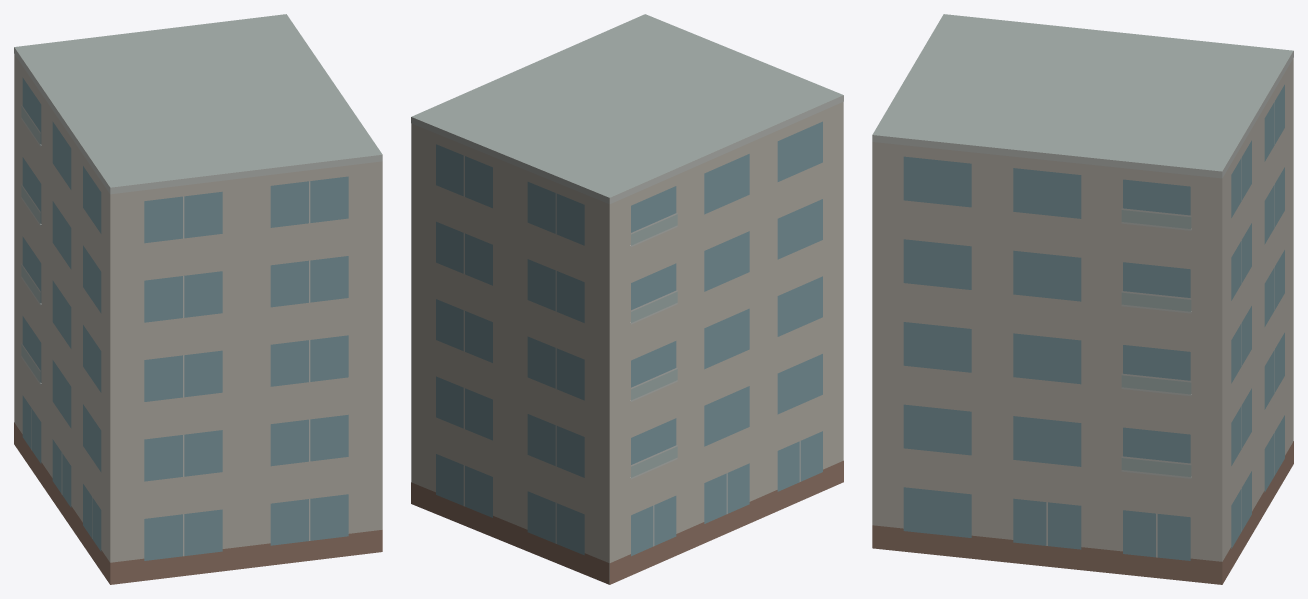
Rendered from survey-upis-32872520.glb.
3 renders of one model, left to right at view 1: azimuth 30°, elevation 25°; view 2: azimuth 150°, elevation 25°; view 3: azimuth 270°, elevation 25°, orthographic. The views are drawn at different scales.
Visible parts, largest first — view 1: survey-upis-32872520.tmp; view 2: survey-upis-32872520.tmp; view 3: survey-upis-32872520.tmp.
Part boxes in pixels (box(x1,y1,x2,y2)): survey-upis-32872520.tmp: box(14, 14, 382, 584); survey-upis-32872520.tmp: box(411, 14, 843, 584); survey-upis-32872520.tmp: box(872, 14, 1293, 584).
Bounding box in the file's own units: 11.94 × 14.6 × 13.5.
